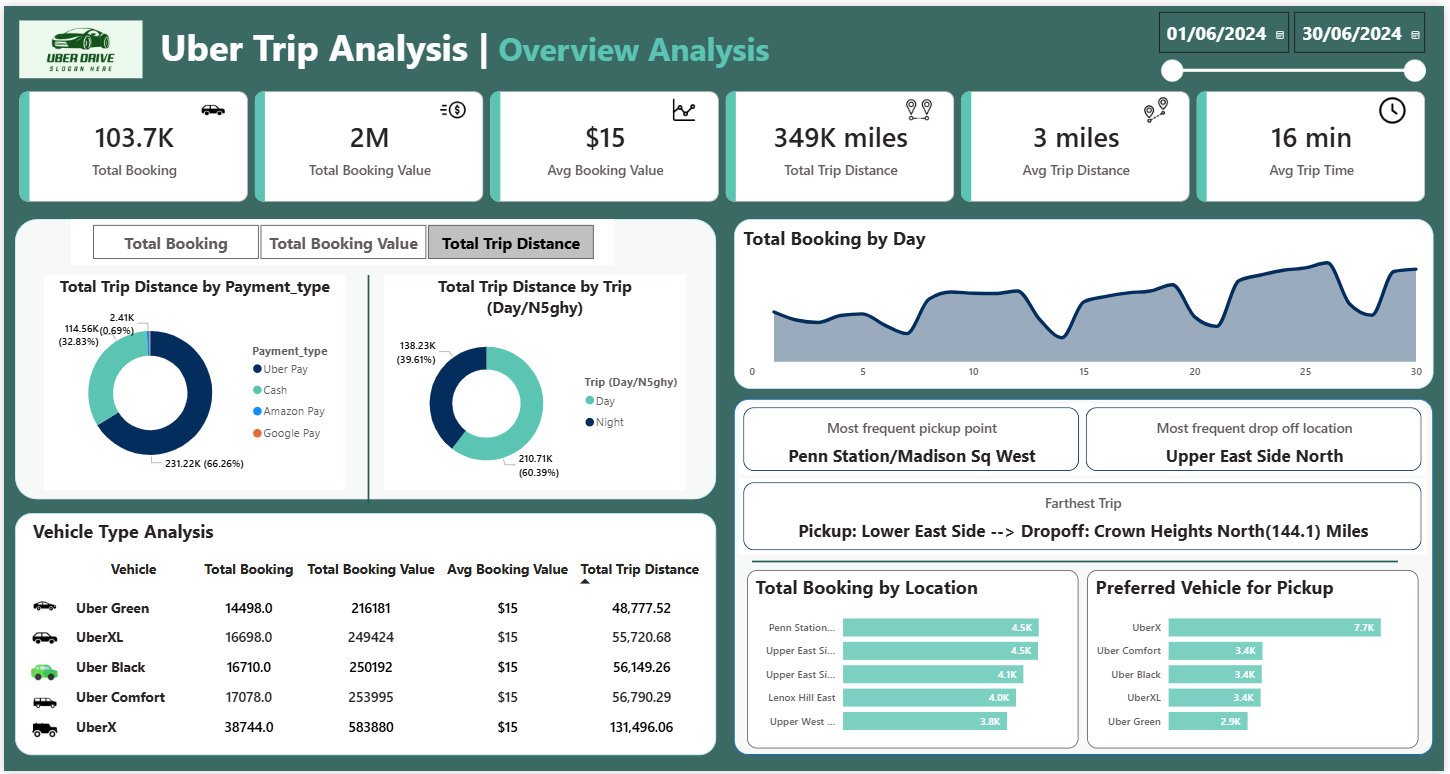

The dashboard page shown, as its layout file describes it:
{"tool":"powerbi","page":{"name":"OVERVIEW ANALYSIS","canvas":[1695,900],"ordinal":0},"visuals":[{"type":"cardVisual","fields":{"Data":["Trip Details.Total Booking","Trip Details.Total Booking Value","Trip Details.Avg Booking Value","Trip Details.Total Trip Distance","Trip Details.Avg Trip Distance","Trip Details.Avg Trip Time"]},"box":[12.5,95,1668.8,140],"z":0},{"type":"image","box":[227.5,102.5,37.5,40],"z":1000},{"type":"image","box":[508.8,101.2,40,41.2],"z":2000},{"type":"image","box":[780,101.2,40,41.2],"z":3000},{"type":"image","box":[1056.2,101.2,40,41.2],"z":4000},{"type":"image","box":[1336.2,102.5,40,40],"z":5000},{"type":"image","box":[1612.5,102.5,41.2,41.2],"z":6000},{"type":"shape","box":[12.5,250,825,330],"z":7000},{"type":"shape","box":[858.8,462.5,822.5,418.8],"z":8000},{"type":"slicer","fields":{"Values":["Default Text.Default Text"]},"box":[79,250.8,639.3,54.2],"z":9000},{"type":"donutChart","fields":{"Y":["Trip Details.Total Booking"],"Category":["Trip Details.Payment_type"]},"box":[47.5,316.2,355,252.5],"z":10000},{"type":"shape","box":[418.8,316.2,20,268.8],"z":11000},{"type":"donutChart","fields":{"Y":["Trip Details.Total Booking"],"Category":["Trip Details.Trip (Day/N5ghy)"]},"box":[447.5,316.2,355,252.5],"z":12000},{"type":"areaChart","fields":{"Category":["Calendar Table.Date.Variation.Date Hierarchy.Day"],"Y":["Trip Details.Total Booking"]},"box":[858.4,250.6,823.4,200],"z":13000},{"type":"shape","title":"Vehicle Type Analysis","box":[12.5,596.2,825,285],"z":14000},{"type":"pivotTable","title":"Vehicle Type Analysis","fields":{"Rows":["Trip Details.Vehicle"],"Values":["Trip Details.Total Booking","Trip Details.Total Booking Value","Trip Details.Avg Booking Value","Trip Details.Total Trip Distance Value"]},"box":[78.8,637.6,750.6,236.5],"z":15000},{"type":"image","box":[27.1,685.7,41.2,40],"z":16000},{"type":"image","box":[27.1,723.2,41.2,40],"z":17000},{"type":"image","box":[27.1,763.2,41.2,41.2],"z":18000},{"type":"image","box":[27.1,799.5,41.2,40],"z":19000},{"type":"image","box":[27.1,832,41.2,40],"z":20000},{"type":"textbox","box":[178.8,13.8,817.5,73.8],"z":21000},{"type":"cardVisual","fields":{"Data":["Trip Details.most frequent pickup point","Trip Details.most frequent drop off location"]},"box":[865,467.5,808.8,85],"z":22000},{"type":"cardVisual","fields":{"Data":["Trip Details.Farthest Trip"]},"box":[865,555,808.8,90],"z":23000},{"type":"shape","box":[880,643.8,760,20],"z":24000},{"type":"barChart","fields":{"Category":["Location Table.Location"],"Y":["Trip Details.Total Booking"]},"box":[873.8,663.8,390,210],"z":25000},{"type":"barChart","title":"Preferred Vehicle for Pickup ","fields":{"Category":["Trip Details.Vehicle"],"Y":["CountNonNull(Trip Details.PULocationID)"]},"box":[1273.8,663.8,390,210],"z":26000},{"type":"slicer","fields":{"Values":["Calendar Table.Date"]},"box":[1346.2,0,335,95],"z":27000},{"type":"image","box":[12.5,0,155,102.5],"z":28000}]}

Visuals, with their boxes in screenshot pixels (x1, y1, x2, y2), scaled from the page's 1695x900 canvas onto the 1450x774 screenshot:
cardVisual - Trip Details.Total Booking x Trip Details.Total Booking Value: 11:82:1438:202
image: 195:88:227:123
image: 435:87:469:122
image: 667:87:701:122
image: 904:87:938:122
image: 1143:88:1177:123
image: 1379:88:1415:124
shape: 11:215:716:499
shape: 735:398:1438:758
slicer - Default Text.Default Text: 68:216:614:262
donutChart - Trip Details.Total Booking x Trip Details.Payment_type: 41:272:344:489
shape: 358:272:375:503
donutChart - Trip Details.Total Booking x Trip Details.Trip (Day/N5ghy): 383:272:687:489
areaChart - Calendar Table.Date.Variation.Date Hierarchy.Day x Trip Details.Total Booking: 734:216:1439:388
"Vehicle Type Analysis" shape: 11:513:716:758
"Vehicle Type Analysis" pivotTable: 67:548:710:752
image: 23:590:58:624
image: 23:622:58:656
image: 23:656:58:692
image: 23:688:58:722
image: 23:716:58:750
textbox: 153:12:852:75
cardVisual - Trip Details.most frequent pickup point x Trip Details.most frequent drop off location: 740:402:1432:475
cardVisual - Trip Details.Farthest Trip: 740:477:1432:555
shape: 753:554:1403:571
barChart - Location Table.Location x Trip Details.Total Booking: 747:571:1081:751
"Preferred Vehicle for Pickup " barChart: 1090:571:1423:751
slicer - Calendar Table.Date: 1152:0:1438:82
image: 11:0:143:88
